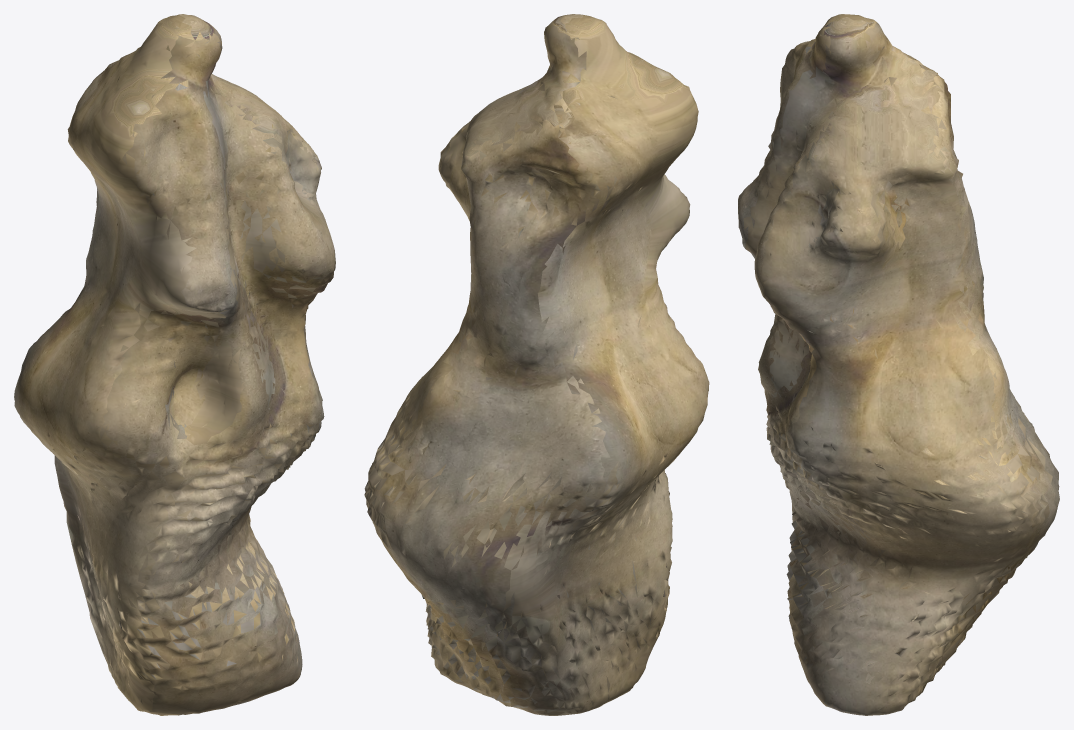
The model's file is hy3d-esc-008.glb.
3 renders of one model, left to right at view 1: azimuth 30°, elevation 25°; view 2: azimuth 150°, elevation 25°; view 3: azimuth 270°, elevation 25°, orthographic. The views are drawn at different scales.
Parts seen in each view (by area): view 1: world; view 2: world; view 3: world.
Part boxes in pixels (x1,y1,x2,y2): world: [14, 14, 335, 715]; world: [364, 14, 709, 715]; world: [738, 14, 1059, 715].
Size of the model in its own units: 0.1518 by 0.38 by 0.1713.
Materials: 1 (1 with a texture image).
